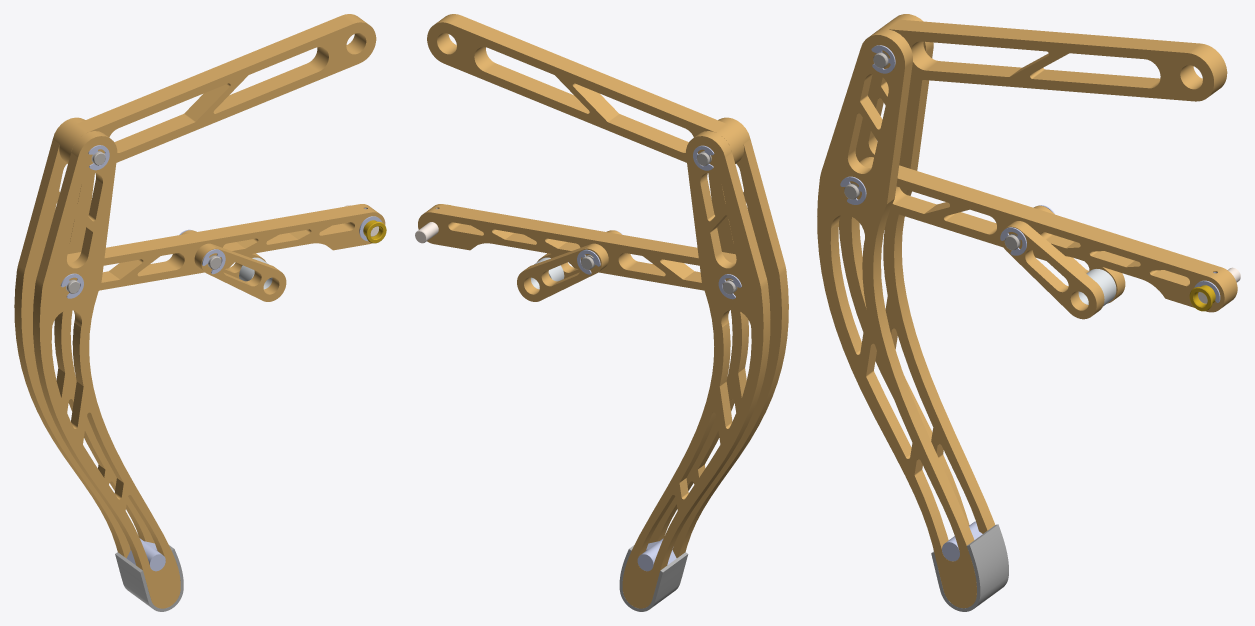
File: TK-ASS_pattes.glb
3 renders of one model, left to right at view 1: azimuth 30°, elevation 25°; view 2: azimuth 150°, elevation 25°; view 3: azimuth 330°, elevation 25°, orthographic. The views are drawn at different scales.
Visible parts, largest first — view 1: TK-PF_DE-2, TK-PF_C-1, TK-PF_DE-1, TK-PF_HI-1, TK-PF_B-2, TK_elastique_pattes-1, TK-support elastique pattes-1; view 2: TK-PF_DE-1, TK-PF_C-1, TK-PF_DE-2, TK-PF_HI-1, TK-PF_B-1, TK_elastique_pattes-1, TK-support elastique pattes-1; view 3: TK-PF_DE-2, TK-PF_C-1, TK-PF_HI-1, TK-PF_DE-1, TK-PF_B-2, TK_elastique_pattes-1, TK-entretoise_8x10-1, TK-PF_B-1.
Part boxes in pixels (x1,y1,x2,y2): TK-PF_DE-2: (33,131,180,608); TK-PF_C-1: (59,14,376,163); TK-PF_DE-1: (14,117,154,558); TK-PF_HI-1: (67,204,385,290); TK-PF_B-2: (194,243,286,301); TK_elastique_pattes-1: (115,545,183,611); TK-support elastique pattes-1: (126,538,165,571); TK-PF_DE-1: (622,131,770,608); TK-PF_C-1: (427,14,743,163); TK-PF_DE-2: (648,117,788,557); TK-PF_HI-1: (418,204,736,290); TK-PF_B-1: (517,243,608,301); TK_elastique_pattes-1: (619,545,688,611); TK-support elastique pattes-1: (637,538,676,571); TK-PF_DE-2: (817,29,976,608); TK-PF_C-1: (875,19,1227,101); TK-PF_HI-1: (859,157,1237,312); TK-PF_DE-1: (839,14,995,533); TK-PF_B-2: (1000,221,1104,319); TK_elastique_pattes-1: (931,524,1008,611); TK-entretoise_8x10-1: (1078,269,1116,306); TK-PF_B-1: (1033,205,1125,303).
Size of the model in its own units: 0.177 by 0.2567 by 0.0288.
